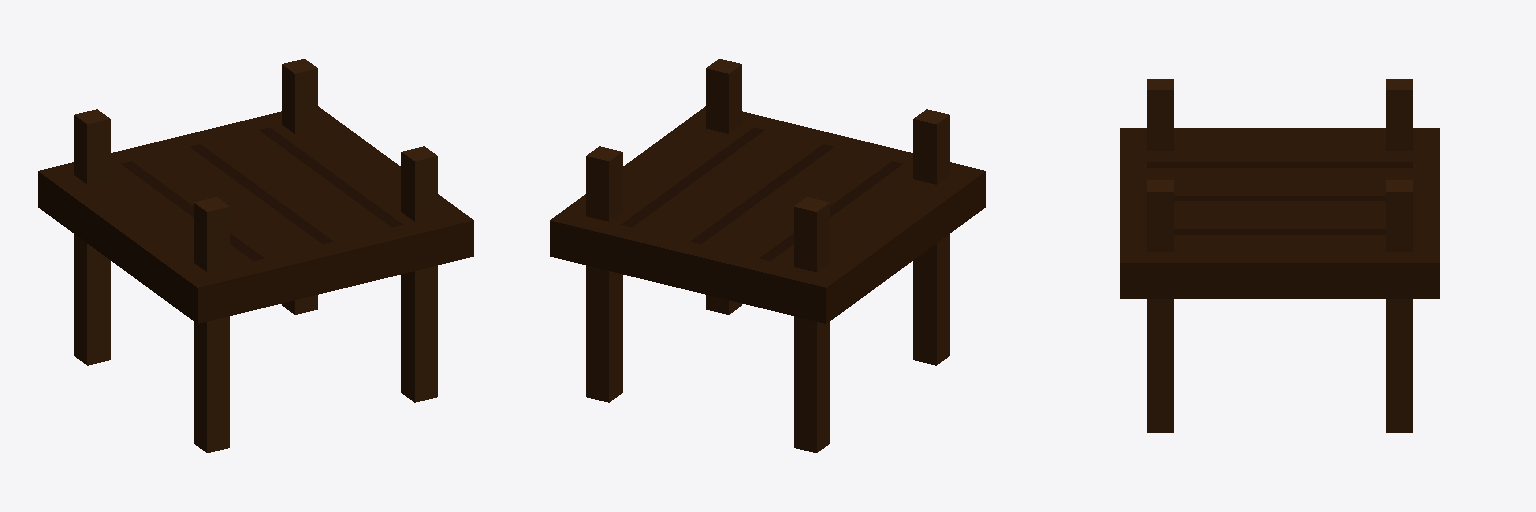
The picture shows the model from 3 angles: view 1: azimuth 30°, elevation 25°; view 2: azimuth 150°, elevation 25°; view 3: azimuth 270°, elevation 25°; orthographic projection.
Visible parts, largest first — view 1: object 1; view 2: object 1; view 3: object 1.
Part boxes in pixels (bbox=[...]): object 1: bbox=[38, 59, 473, 452]; object 1: bbox=[550, 59, 985, 452]; object 1: bbox=[1120, 79, 1439, 432].
Bounding box in the file's own units: 2.4 × 2 × 2.4.
1 materials, 1 textured.